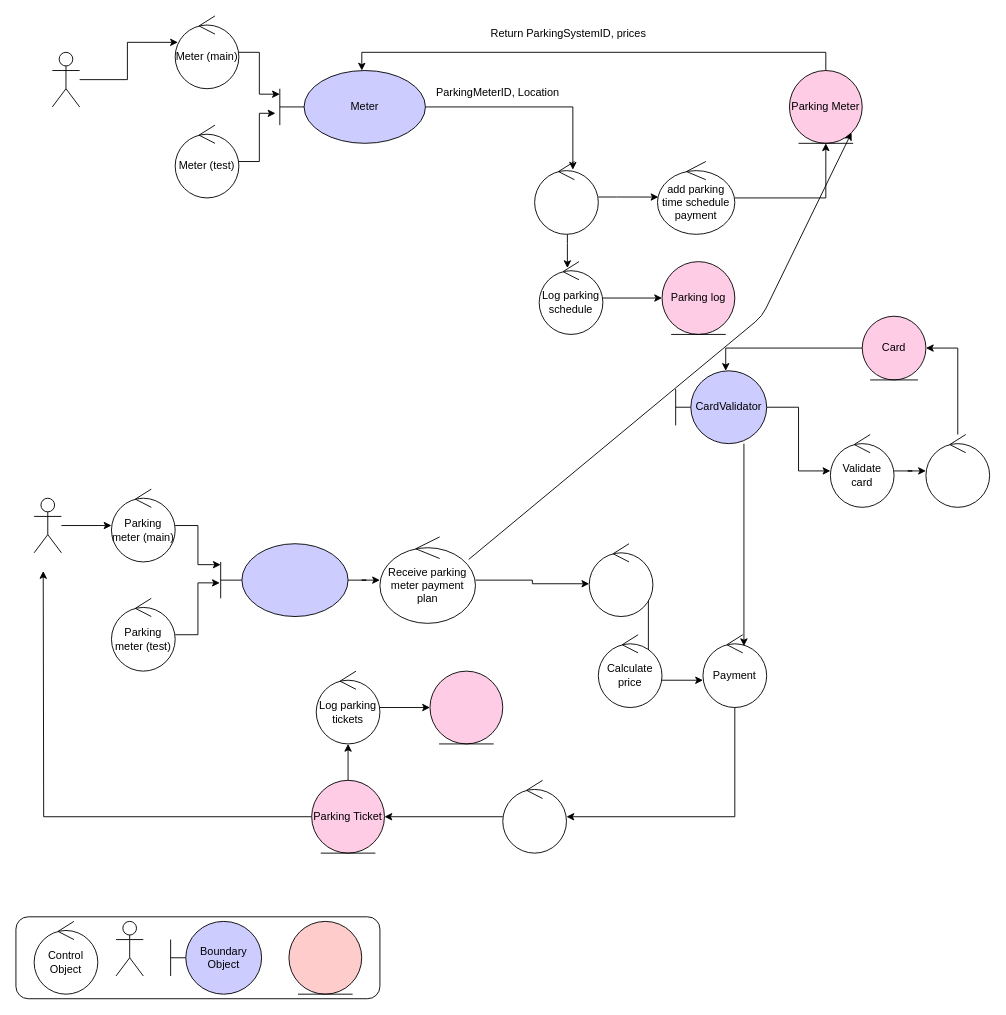
The diagram is 1006 pixels wide and 1015 high, and some of its shapes have lost their labels. The centre of each missing label's shape, as x and y in pixels:
"Actor" belongs at point (129, 948).
"Car Park Manager" belongs at point (65, 79).
"Check duration time" belongs at point (620, 580).
"Check lunn" belongs at point (957, 470).
"Customer" belongs at point (47, 525).
"Entity Object" belongs at point (325, 957).
"Issue parking system ID" belongs at point (566, 197).
"Meter log" belongs at point (466, 707).
"ParkingMeterService" belongs at point (284, 580).
"Payment result" belongs at point (534, 816).
